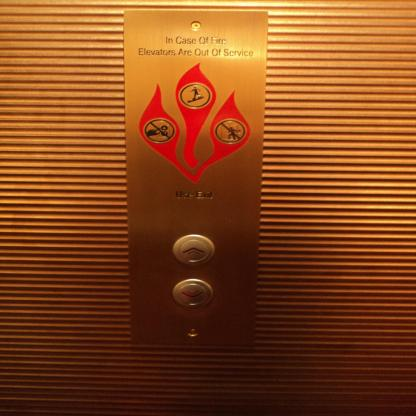down: (170, 276, 215, 312)
up: (171, 232, 216, 268)
